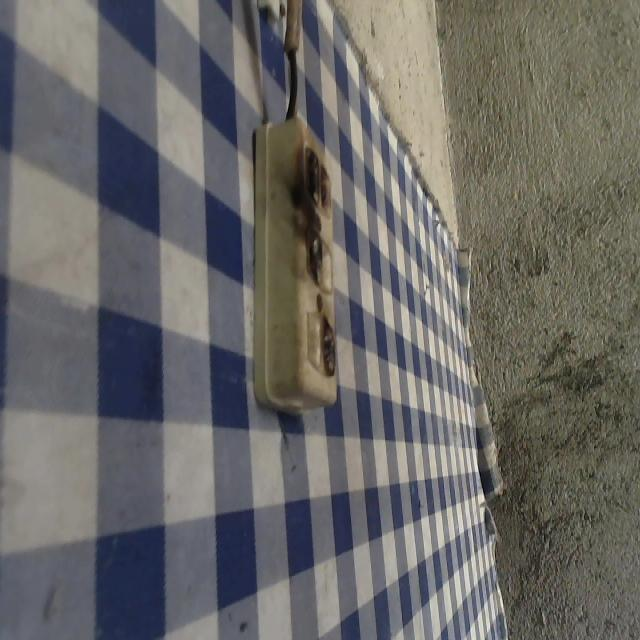-: (303, 139, 332, 221), (318, 309, 336, 379), (301, 224, 322, 283)
